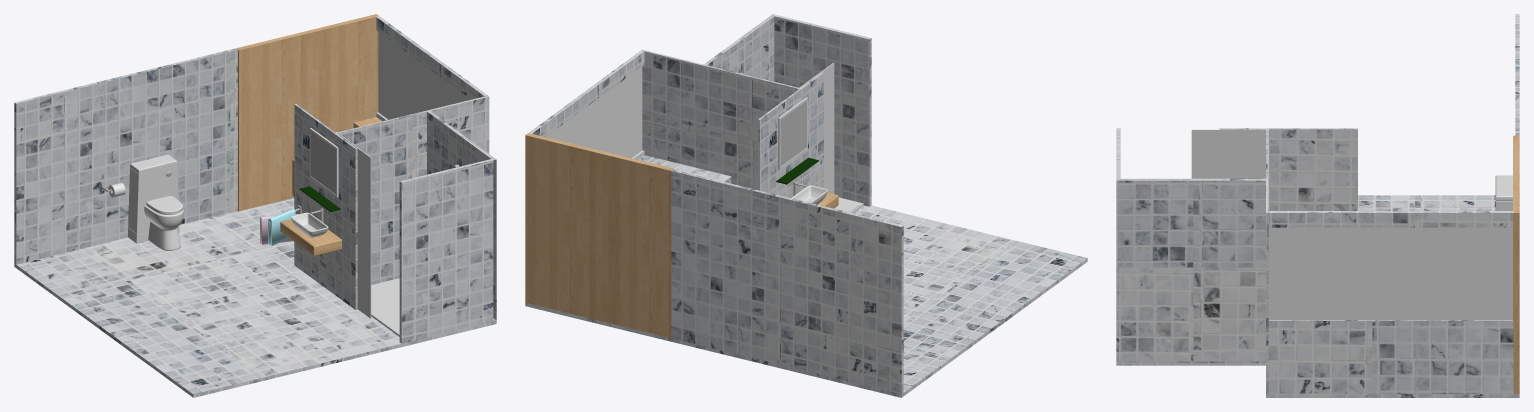
The model's file is bathroom.glb.
3 views of the same model, side by side, from view 1: azimuth 30°, elevation 25°; view 2: azimuth 150°, elevation 25°; view 3: azimuth 270°, elevation 25° (orthographic). The views are drawn at different scales.
Visible parts, largest first — view 1: Floor, Wall_5, Cube.008, Wall_1, Wall_4, Wall_3, Circle, Cube.025-transparent, Wall_2, Cube.014-transparent, Cube.024, Cube.006 (+5 smaller); view 2: Wall_5, Cube.008, Floor, Wall_4, Wall_1, Cube.025-transparent, Wall_3, Wall_2, Cube.024, Cube.014-transparent, mirror, Cube.022; view 3: Wall_2, Cube.025-transparent, Cube.020, Wall_3, Cube.024, Cube.014-transparent, Floor, Cube.008, Cube.013, Wall_4, Circle, Wall_5.
Boxes of the visible parts, left/top/right/bottom form: Floor: left=14, top=198, right=496, bottom=397; Wall_5: left=14, top=48, right=237, bottom=264; Cube.008: left=236, top=14, right=378, bottom=211; Wall_1: left=399, top=159, right=493, bottom=343; Wall_4: left=336, top=95, right=489, bottom=284; Wall_3: left=294, top=104, right=357, bottom=309; Circle: left=127, top=154, right=183, bottom=250; Cube.025-transparent: left=378, top=32, right=470, bottom=119; Wall_2: left=427, top=111, right=496, bottom=320; Cube.014-transparent: left=335, top=132, right=371, bottom=318; Cube.024: left=376, top=16, right=487, bottom=99; Cube.006: left=371, top=278, right=399, bottom=336; Wall_5: left=671, top=169, right=903, bottom=394; Cube.008: left=525, top=133, right=674, bottom=337; Floor: left=586, top=205, right=1087, bottom=397; Wall_4: left=641, top=49, right=800, bottom=189; Wall_1: left=774, top=15, right=871, bottom=206; Cube.025-transparent: left=546, top=67, right=642, bottom=158; Wall_3: left=758, top=72, right=823, bottom=197; Wall_2: left=704, top=14, right=775, bottom=81; Cube.024: left=528, top=50, right=644, bottom=137; Cube.014-transparent: left=797, top=62, right=834, bottom=193; mirror: left=780, top=101, right=806, bottom=166; Cube.022: left=638, top=155, right=731, bottom=183; Wall_2: left=1116, top=178, right=1265, bottom=361; Cube.025-transparent: left=1268, top=227, right=1512, bottom=320; Cube.020: left=1268, top=320, right=1513, bottom=393; Wall_3: left=1219, top=128, right=1357, bottom=210; Cube.024: left=1268, top=211, right=1513, bottom=227; Cube.014-transparent: left=1191, top=129, right=1269, bottom=210; Floor: left=1116, top=195, right=1495, bottom=365; Cube.008: left=1513, top=135, right=1519, bottom=393; Cube.013: left=1266, top=394, right=1519, bottom=397; Wall_4: left=1266, top=129, right=1268, bottom=393; Circle: left=1495, top=175, right=1512, bottom=210; Wall_5: left=1515, top=14, right=1519, bottom=135.
Size of the model in its own units: 10.8 by 4.68 by 9.25.
Materials: 8 (2 with a texture image).
